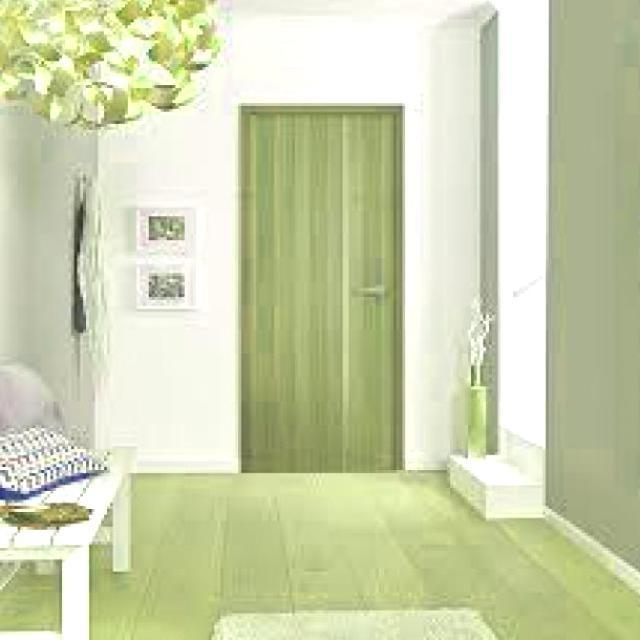door: (238, 103, 404, 473)
